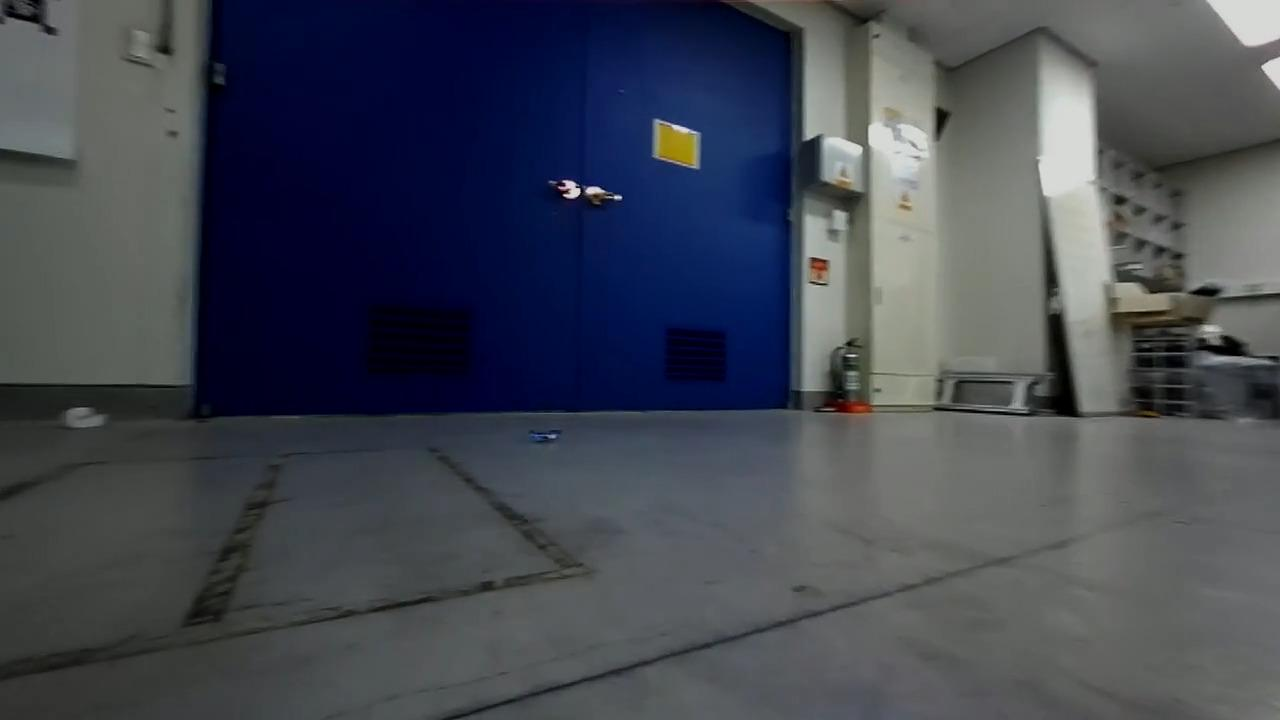crazyflie: (520, 421, 571, 451)
